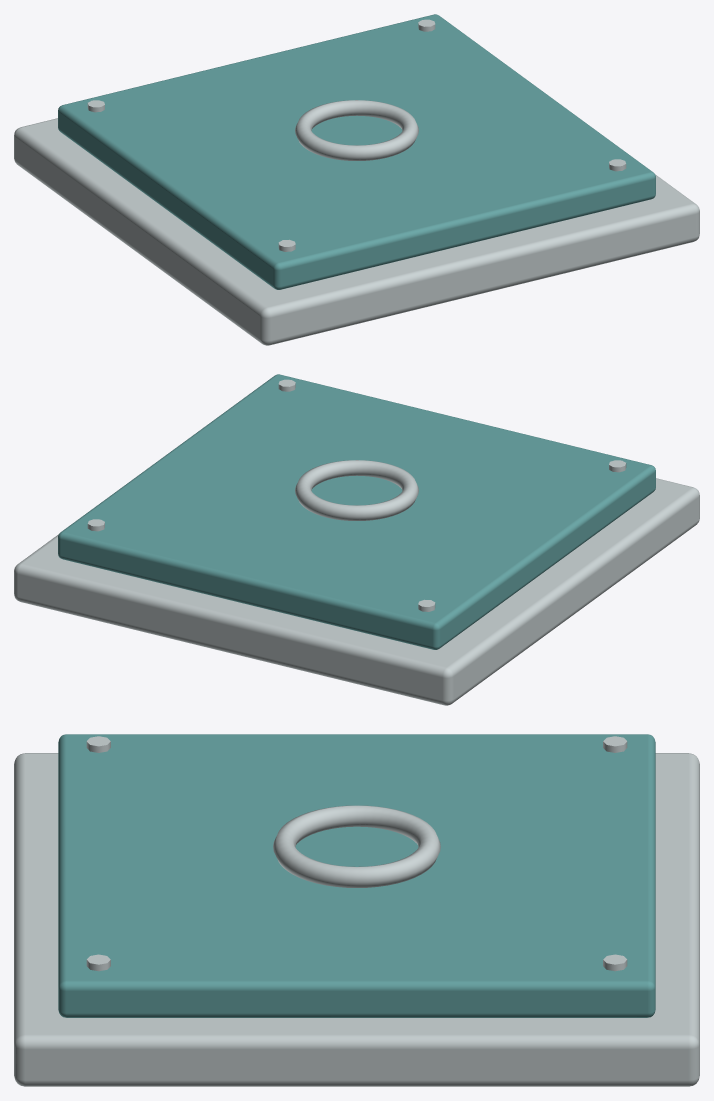
File: hydroelectric-dam-infiltration-access-hatch-a357450b__29364.glb
3 views of the same model, one above another, from view 1: azimuth 30°, elevation 25°; view 2: azimuth 150°, elevation 25°; view 3: azimuth 270°, elevation 25° (orthographic). The views are drawn at different scales.
Parts seen in each view (by area): view 1: access-hatch; view 2: access-hatch; view 3: access-hatch.
Part boxes in pixels (x1,y1,x2,y2): access-hatch: (14, 14, 699, 345); access-hatch: (14, 374, 699, 705); access-hatch: (14, 734, 699, 1086).
Bounding box in the file's own units: 0.85 × 0.149 × 0.85.
